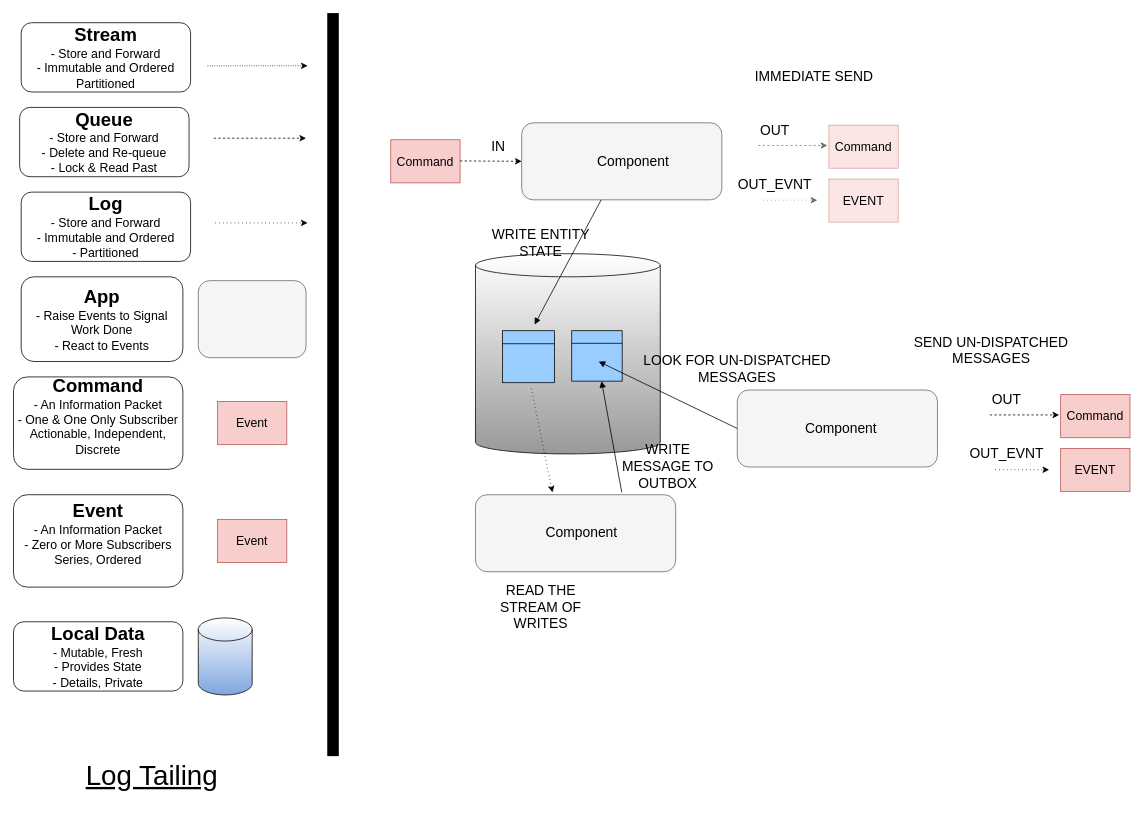
This 1143x816 diagram has some shape labels left out. Each missing label, with the centre of its shape:
Entity: the point at 528,356
Outbox: the point at 596,355
